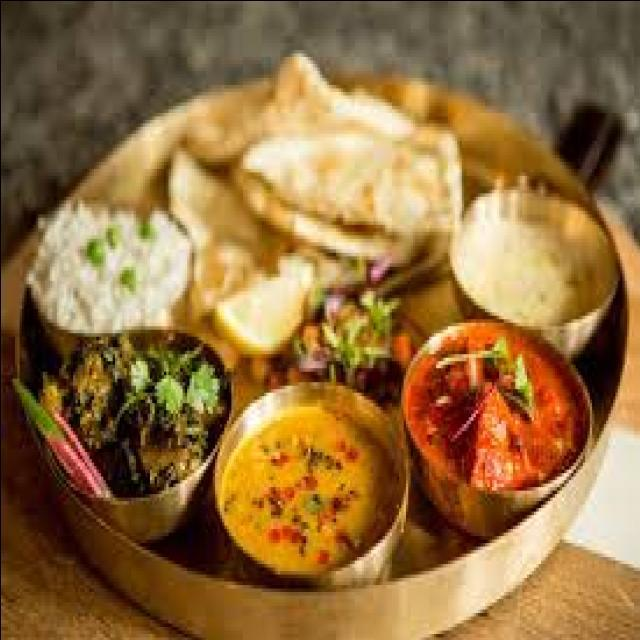curd: (22, 182, 194, 354)
dal: (228, 384, 394, 582), (454, 180, 610, 342)
raita: (22, 182, 195, 355)
veg-fry: (394, 310, 597, 540)
